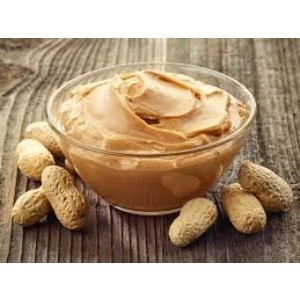peanut butter_brain food: (66, 63, 232, 142)
